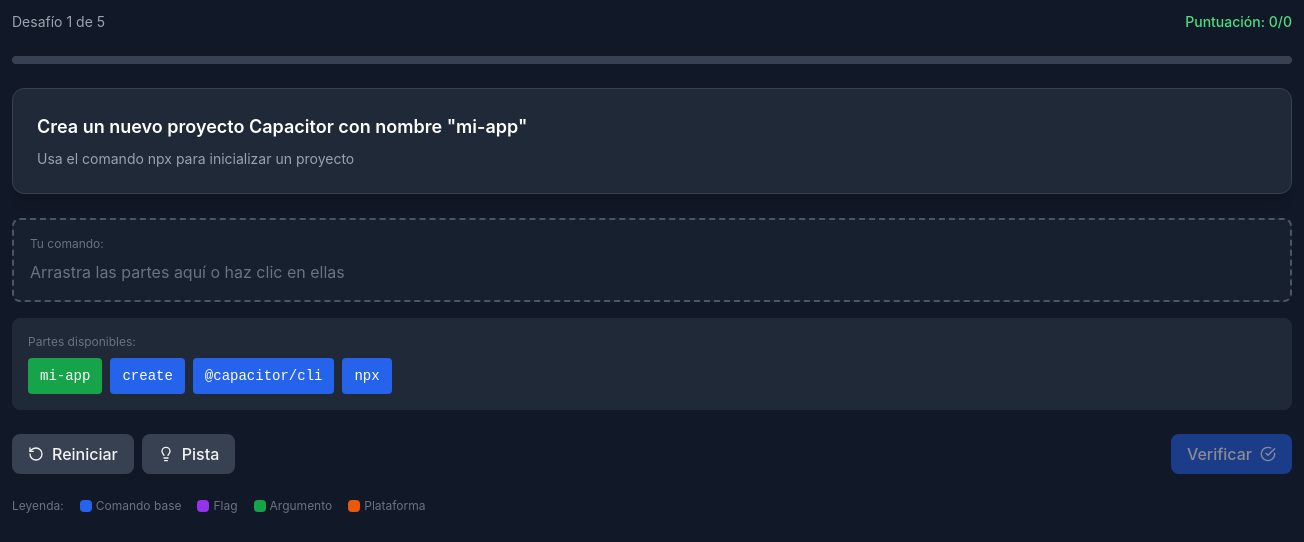
Test: CommandBuilder › interaction › should reset parts when reset button is clicked
The image size is (1304, 542).
Click a part to add it
Click the button "npx".
click(367, 376)  # box [342,358,392,394]
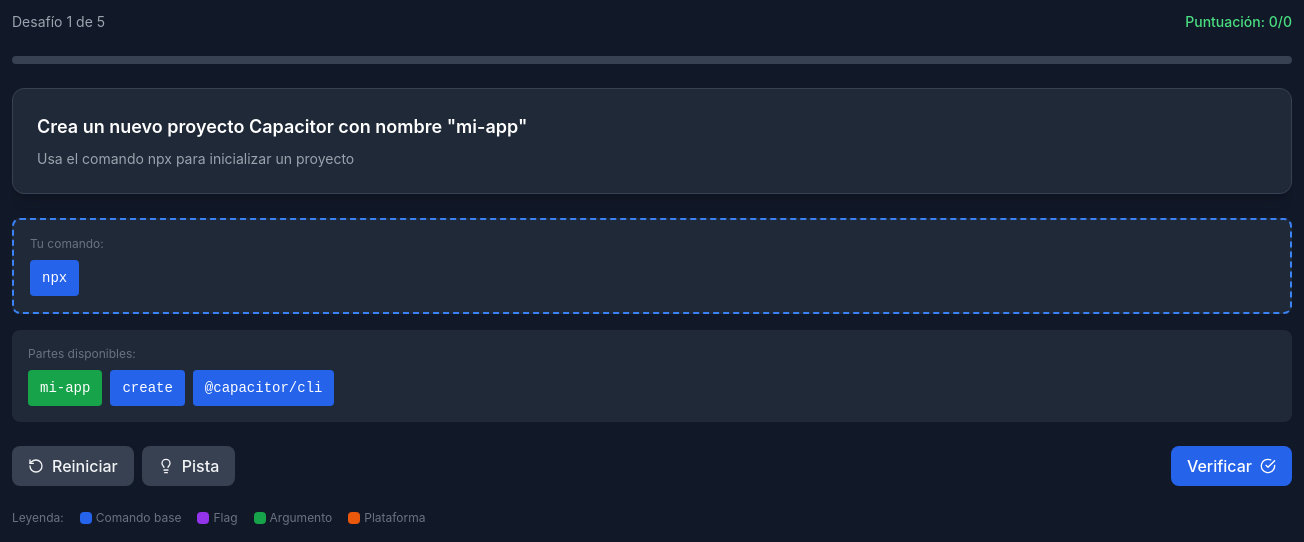
Click the button "Reiniciar".
click(73, 466)  # box [12,446,134,486]
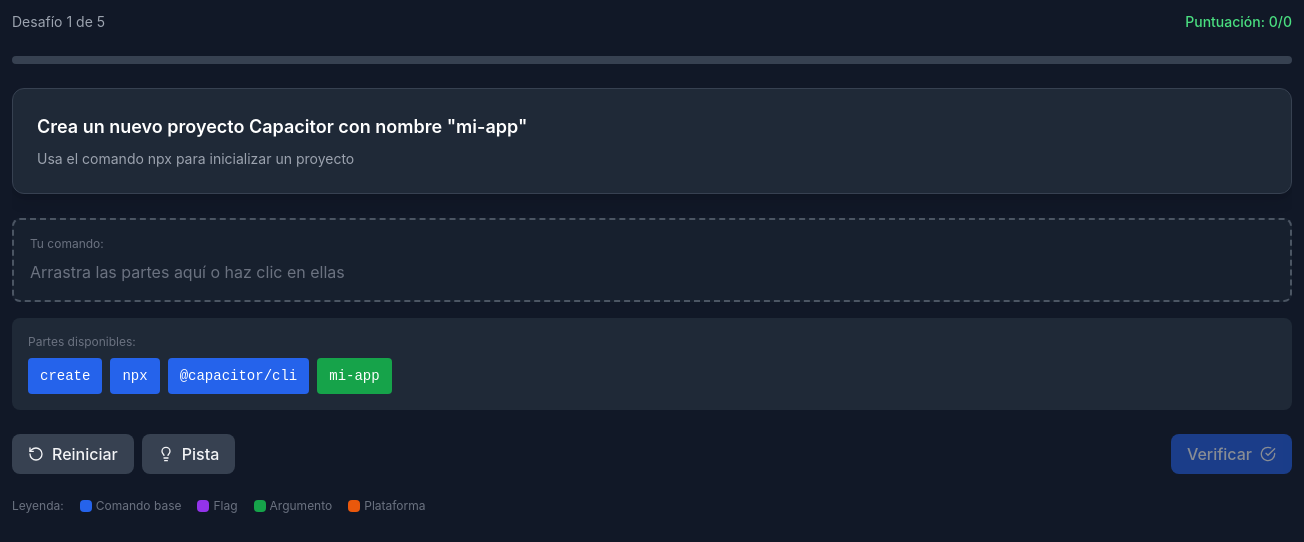
Expected: the text "Arrastra las partes aquí o haz clic en ellas" is shown, [30,260,345,284]
